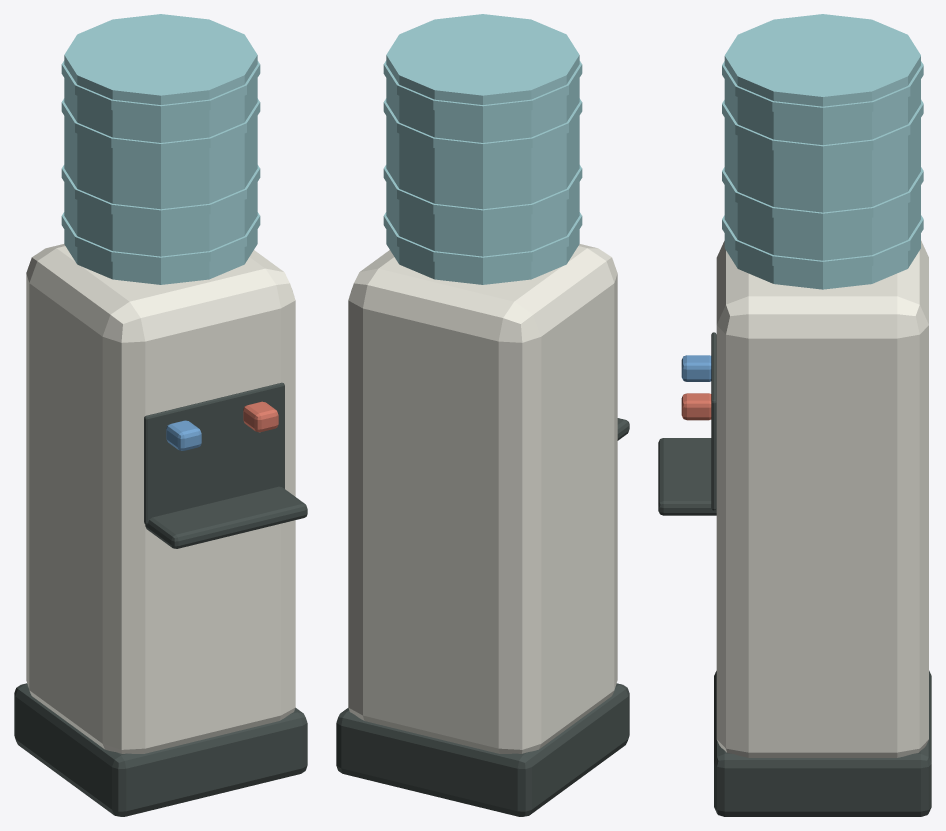
Rendered from water-cooler.glb.
3 renders of one model, left to right at view 1: azimuth 30°, elevation 25°; view 2: azimuth 150°, elevation 25°; view 3: azimuth 270°, elevation 25°, orthographic.
Parts seen in each view (by area): view 1: Cooler body, water-cooler Water bottle, water-cooler Graphite powder coat, Tap.001, water-cooler Cold tap; view 2: Cooler body, water-cooler Water bottle, water-cooler Graphite powder coat; view 3: Cooler body, water-cooler Water bottle, water-cooler Graphite powder coat, Tap.001, water-cooler Cold tap.
Part boxes in pixels (bbox=[...]): Cooler body: bbox=[26, 244, 295, 753]; water-cooler Water bottle: bbox=[61, 14, 260, 284]; water-cooler Graphite powder coat: bbox=[14, 382, 307, 816]; Tap.001: bbox=[243, 401, 278, 432]; water-cooler Cold tap: bbox=[166, 420, 201, 450]; Cooler body: bbox=[348, 244, 617, 753]; water-cooler Water bottle: bbox=[383, 14, 582, 284]; water-cooler Graphite powder coat: bbox=[336, 418, 629, 816]; Cooler body: bbox=[716, 240, 928, 757]; water-cooler Water bottle: bbox=[722, 14, 923, 289]; water-cooler Graphite powder coat: bbox=[658, 332, 931, 816]; Tap.001: bbox=[681, 393, 711, 420]; water-cooler Cold tap: bbox=[681, 355, 711, 381].
Size of the model in its own units: 0.43 by 1.49 by 0.515.
